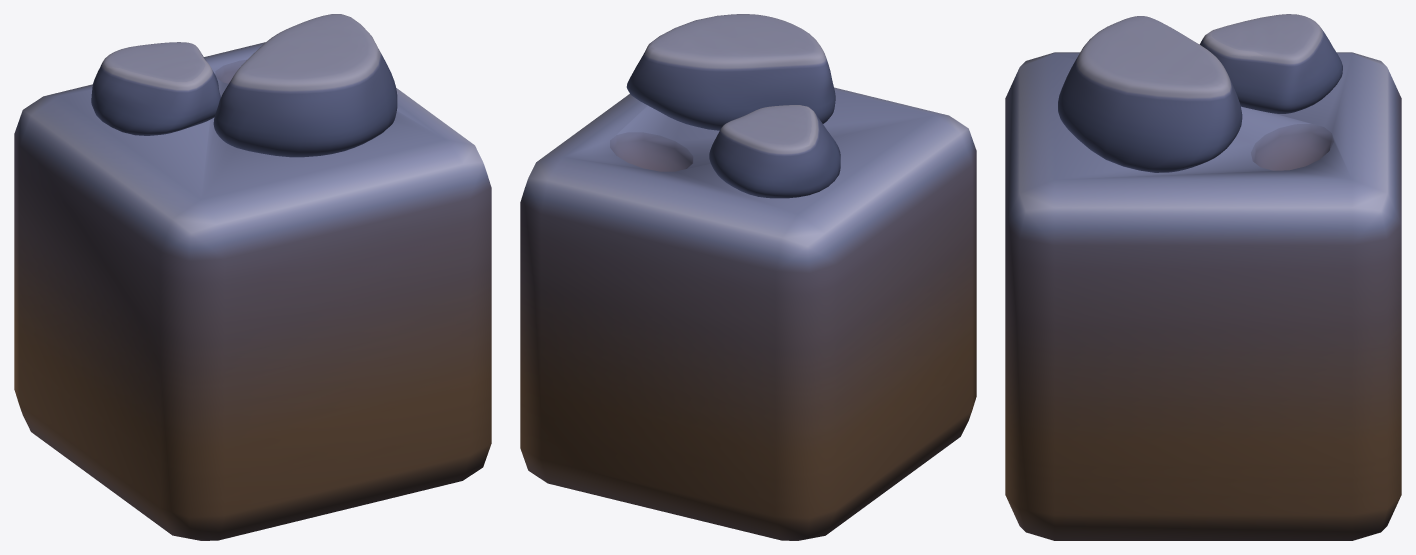
Rendered from rock_block_2.fbx.
3 views of the same model, side by side, from view 1: azimuth 30°, elevation 25°; view 2: azimuth 150°, elevation 25°; view 3: azimuth 270°, elevation 25° (orthographic). The views are drawn at different scales.
Visible parts, largest first — view 1: block_rock.001; view 2: block_rock.001; view 3: block_rock.001.
Part boxes in pixels (left/top/right/bottom): block_rock.001: left=14, top=14, right=491, bottom=540; block_rock.001: left=520, top=14, right=976, bottom=540; block_rock.001: left=1005, top=14, right=1401, bottom=540.
Bounding box in the file's own units: 200 × 245 × 200.
